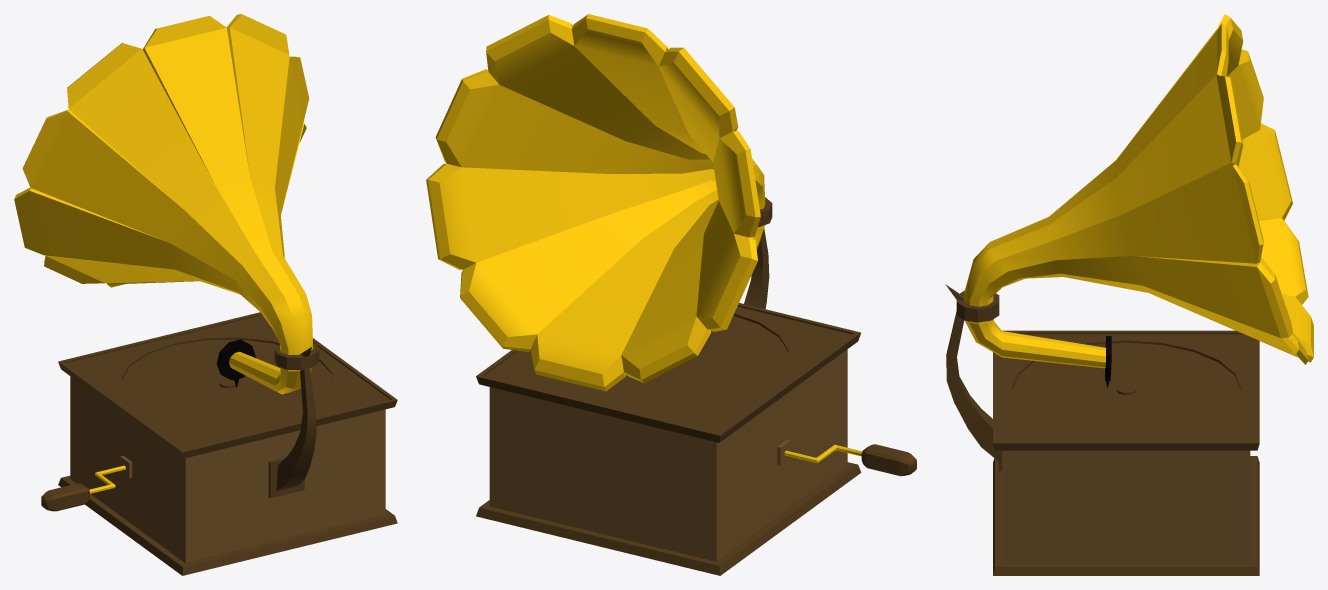
The model's file is Grammophone.fbx.
3 views of the same model, side by side, from view 1: azimuth 30°, elevation 25°; view 2: azimuth 150°, elevation 25°; view 3: azimuth 270°, elevation 25° (orthographic). The views are drawn at different scales.
Visible parts, largest first — view 1: speaker, box, turner; view 2: speaker, box, turner; view 3: box, speaker.
Boxes of the visible parts, x1=… form: speaker: x1=14, y1=14, x2=313, y2=394; box: x1=58, y1=312, x2=397, y2=575; turner: x1=41, y1=465, x2=125, y2=511; speaker: x1=426, y1=14, x2=765, y2=391; box: x1=476, y1=176, x2=861, y2=575; turner: x1=784, y1=444, x2=916, y2=476; box: x1=945, y1=284, x2=1259, y2=575; speaker: x1=964, y1=14, x2=1313, y2=388.
Size of the model in its own units: 22.87 by 28.3 by 19.61.
